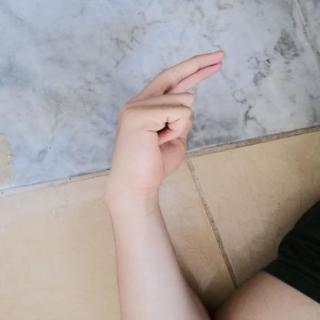ZAY: (95, 43, 238, 208)
